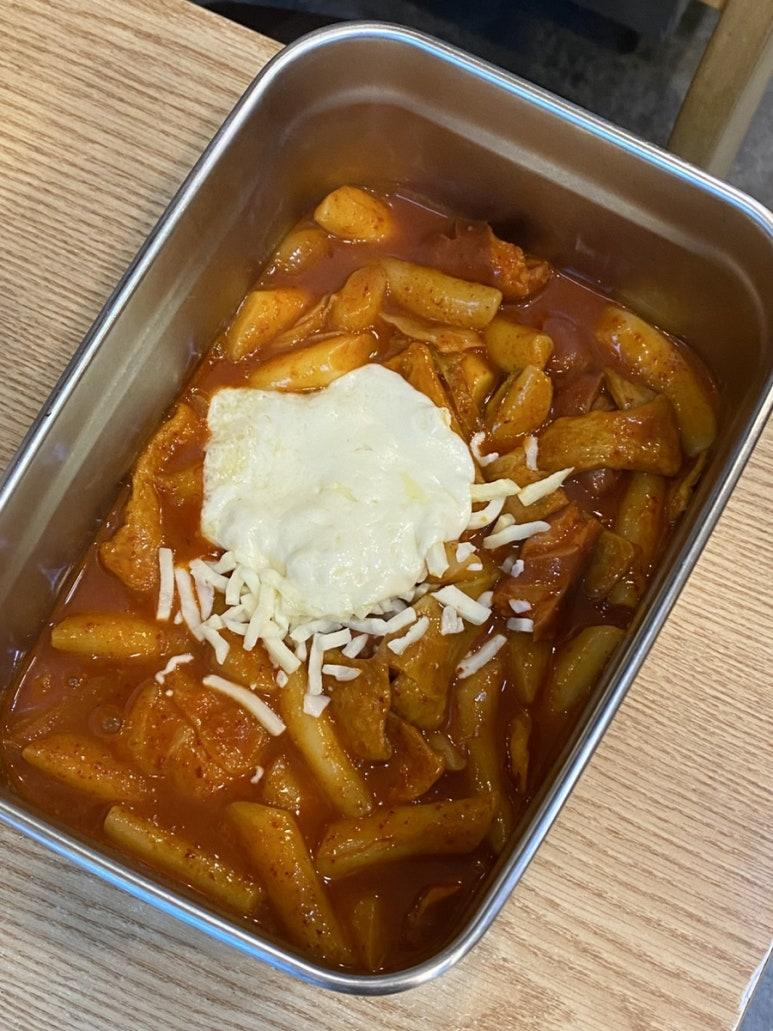Lunch Box: (0, 23, 772, 993)
